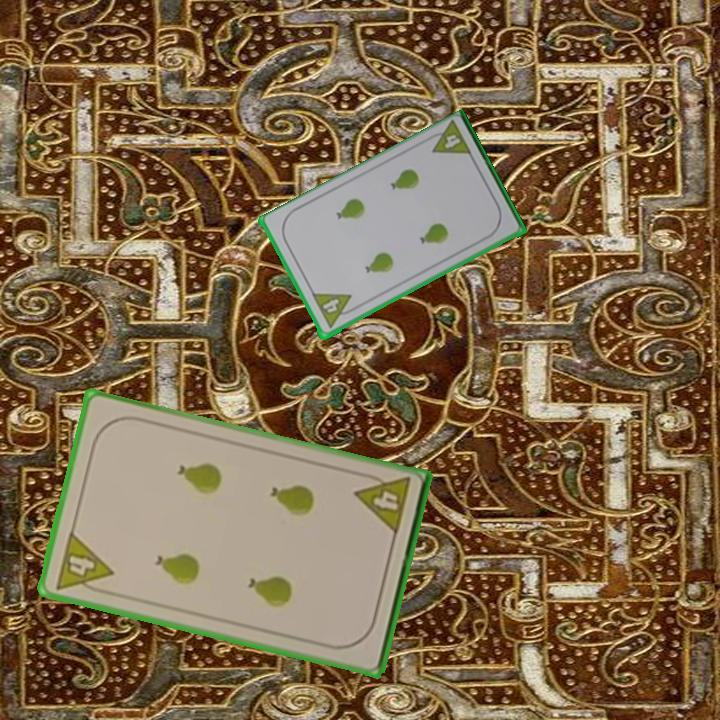4p: (51, 528, 116, 598), (351, 469, 413, 538), (422, 118, 475, 160), (309, 290, 359, 332)
